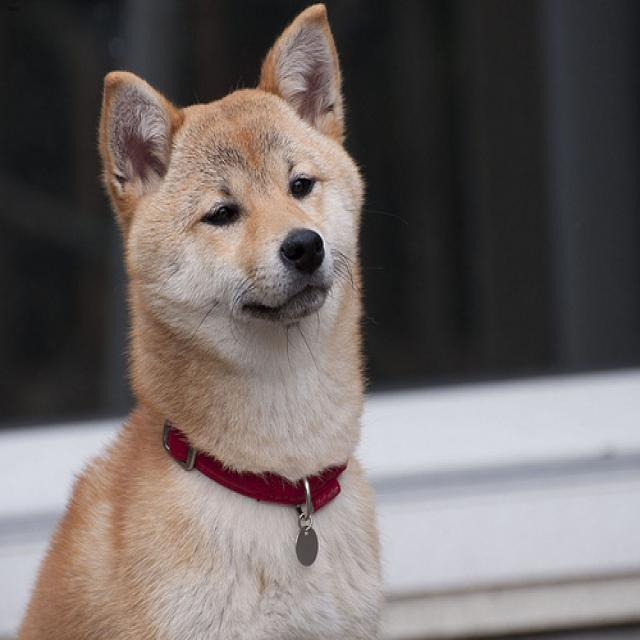dog-shiba_inu: (1, 2, 394, 637)
